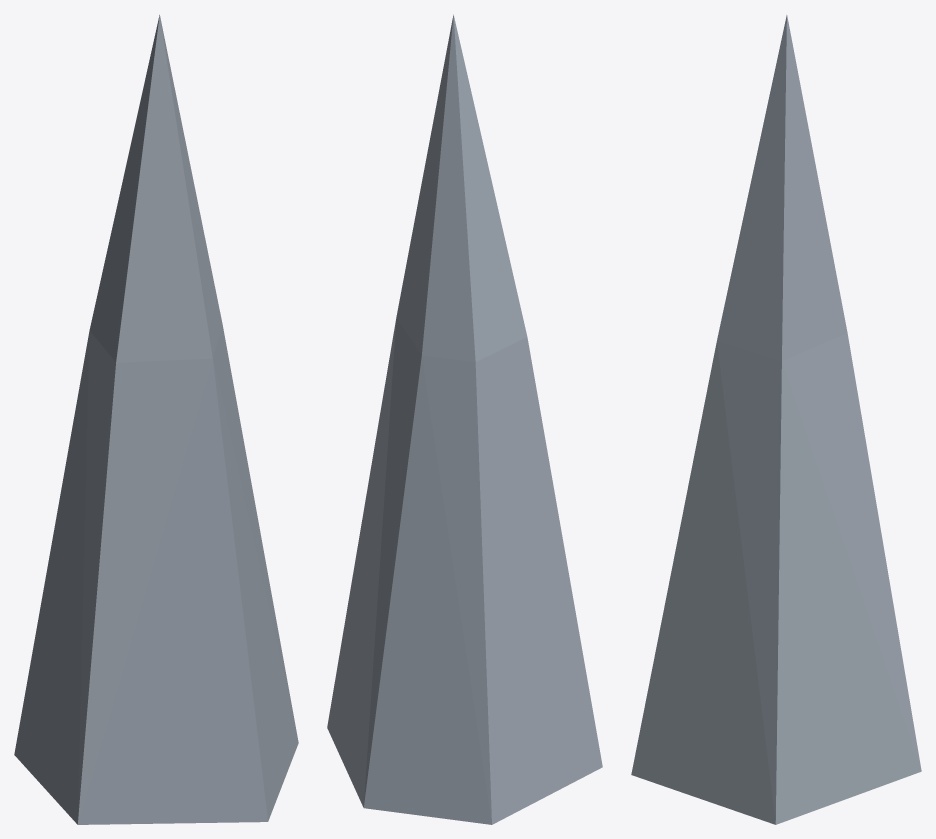
Rendered from Spire_1.fbx.
3 renders of one model, left to right at view 1: azimuth 30°, elevation 25°; view 2: azimuth 150°, elevation 25°; view 3: azimuth 270°, elevation 25°, orthographic.
Visible parts, largest first — view 1: Spire; view 2: Spire; view 3: Spire.
Part boxes in pixels (x1,y1,x2,y2): Spire: (14, 14, 298, 824); Spire: (327, 14, 602, 824); Spire: (631, 15, 921, 824).
Size of the model in its own units: 6.55 by 19 by 6.7.
